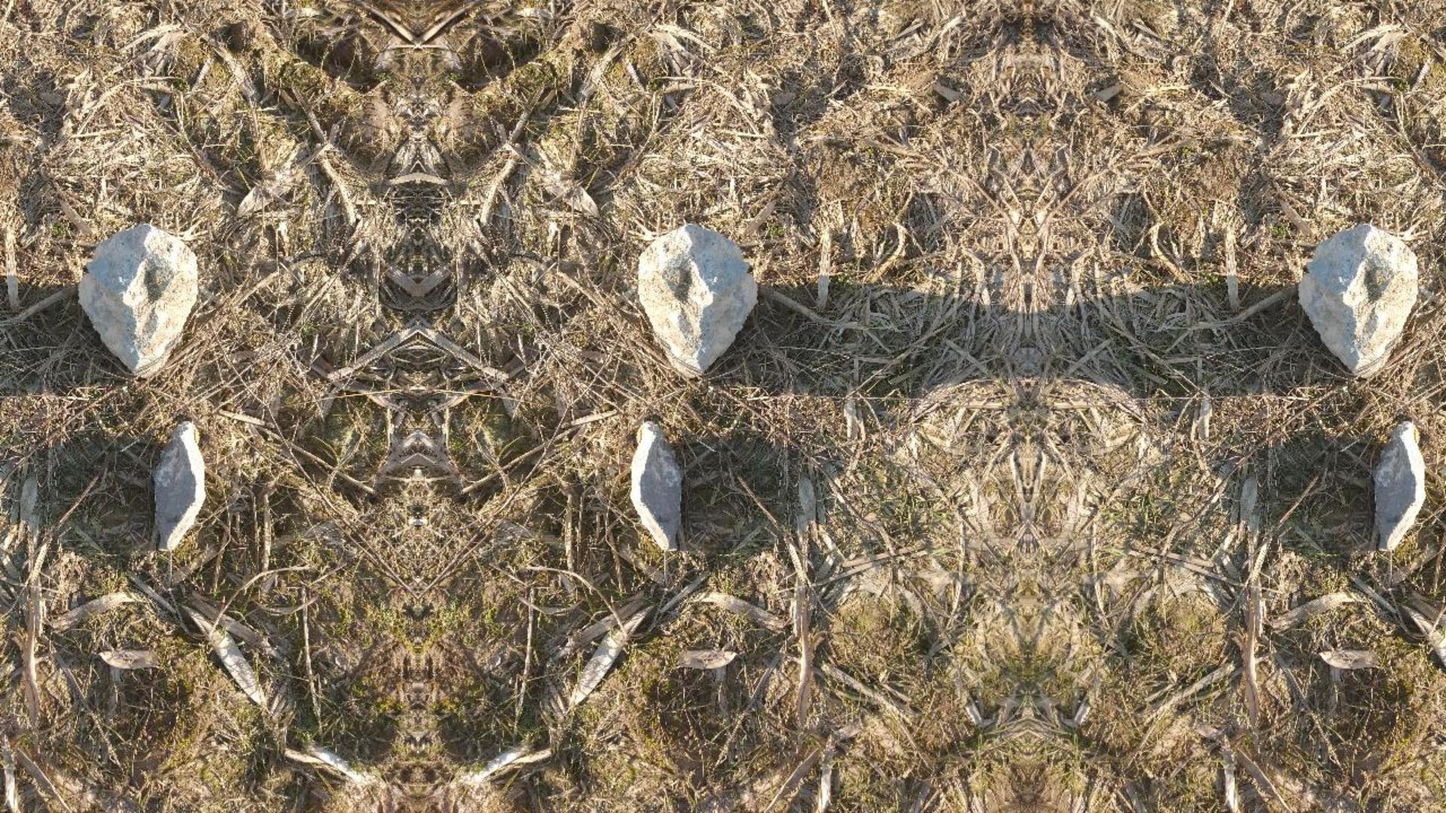rock: (1298, 224, 1417, 374), (638, 224, 757, 373), (79, 224, 197, 374), (630, 421, 681, 550), (1374, 421, 1425, 550), (154, 421, 204, 550)
